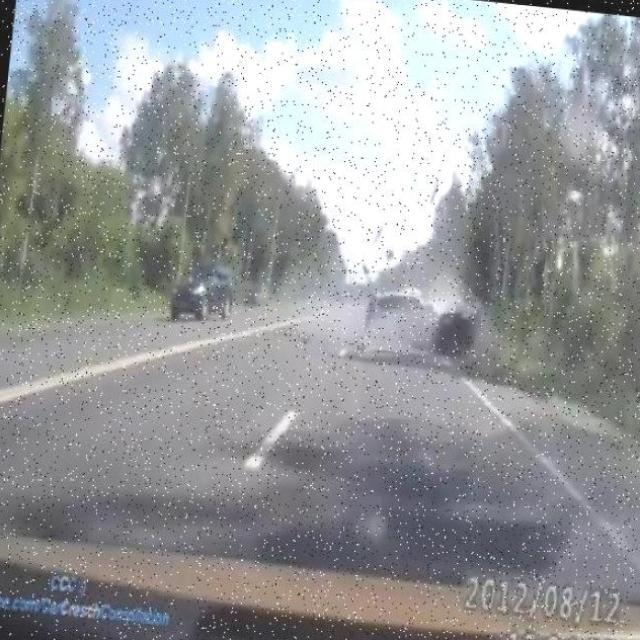accident: (347, 251, 494, 369)
